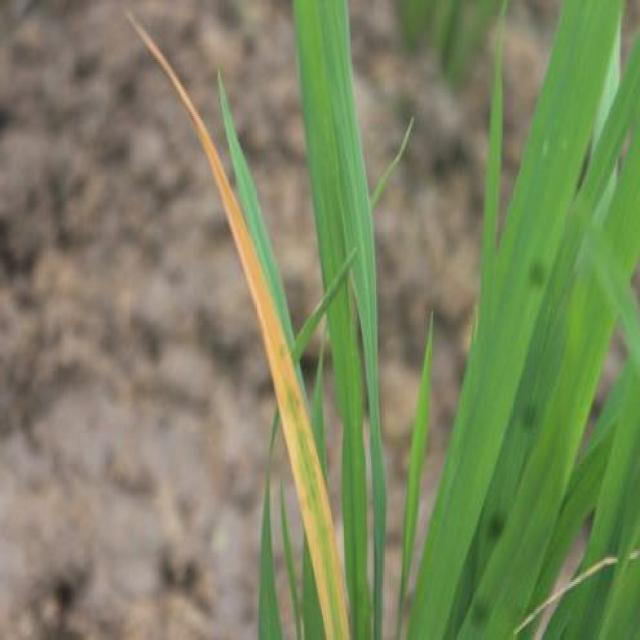Tungro: (142, 21, 342, 637)
